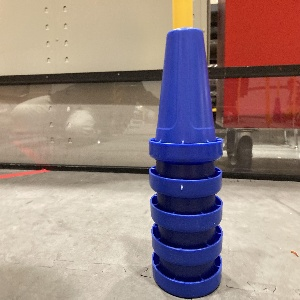Blue_5: (143, 25, 234, 299)
